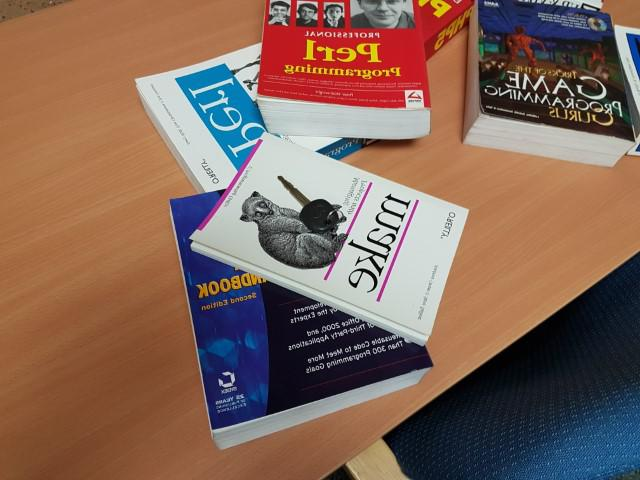key: (278, 175, 337, 231)
